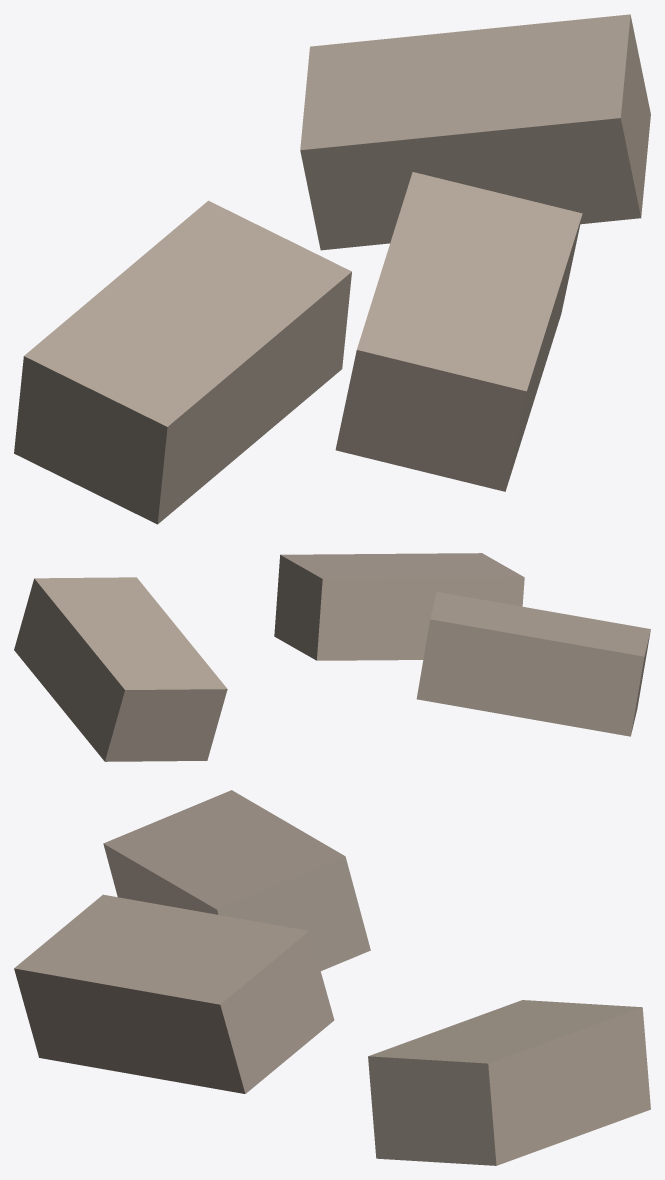
Rendered from prop_broken.glb.
3 views of the same model, one above another, from view 1: azimuth 30°, elevation 25°; view 2: azimuth 150°, elevation 25°; view 3: azimuth 270°, elevation 25° (orthographic). The views are drawn at different scales.
Parts seen in each view (by area): view 1: Shard_0, Shard_1, Shard_2; view 2: Shard_1, Shard_0, Shard_2; view 3: Shard_2, Shard_1, Shard_0.
Boxes of the visible parts, bbox=[...] form: Shard_0: bbox=[14, 200, 351, 524]; Shard_1: bbox=[300, 14, 650, 250]; Shard_2: bbox=[335, 172, 582, 491]; Shard_1: bbox=[14, 577, 227, 761]; Shard_0: bbox=[416, 592, 650, 736]; Shard_2: bbox=[274, 553, 524, 660]; Shard_2: bbox=[14, 894, 334, 1093]; Shard_1: bbox=[368, 1000, 650, 1165]; Shard_0: bbox=[103, 790, 370, 970].
Size of the model in its own units: 0.7245 by 0.1633 by 0.608.
